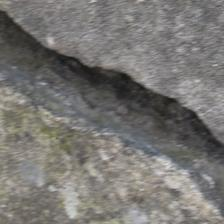Crack: (2, 4, 220, 173)
